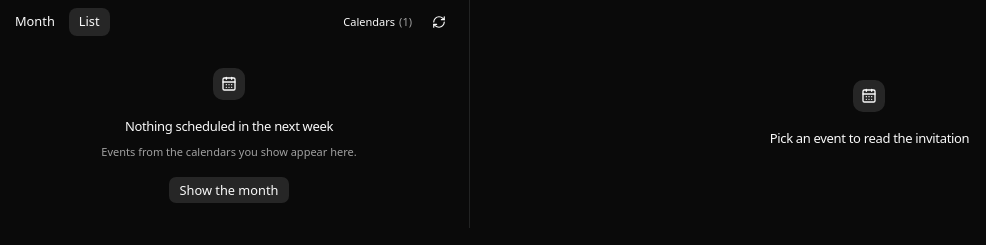
it: separates the calendars you own from the ones you only watch
The width and height of the screenshot is (986, 245).
Click the button "Calendars (1)" at (378, 22), box 334,10 -> 421,34
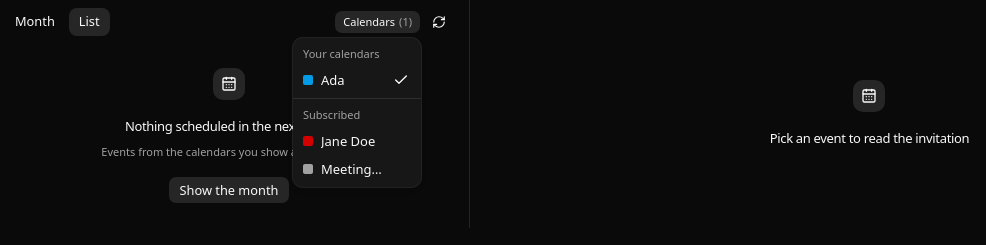
Expected: the text "Your calendars" is shown, 303,46 -> 380,61
Expected: the text "Subscribed" is shown, 303,107 -> 360,122
